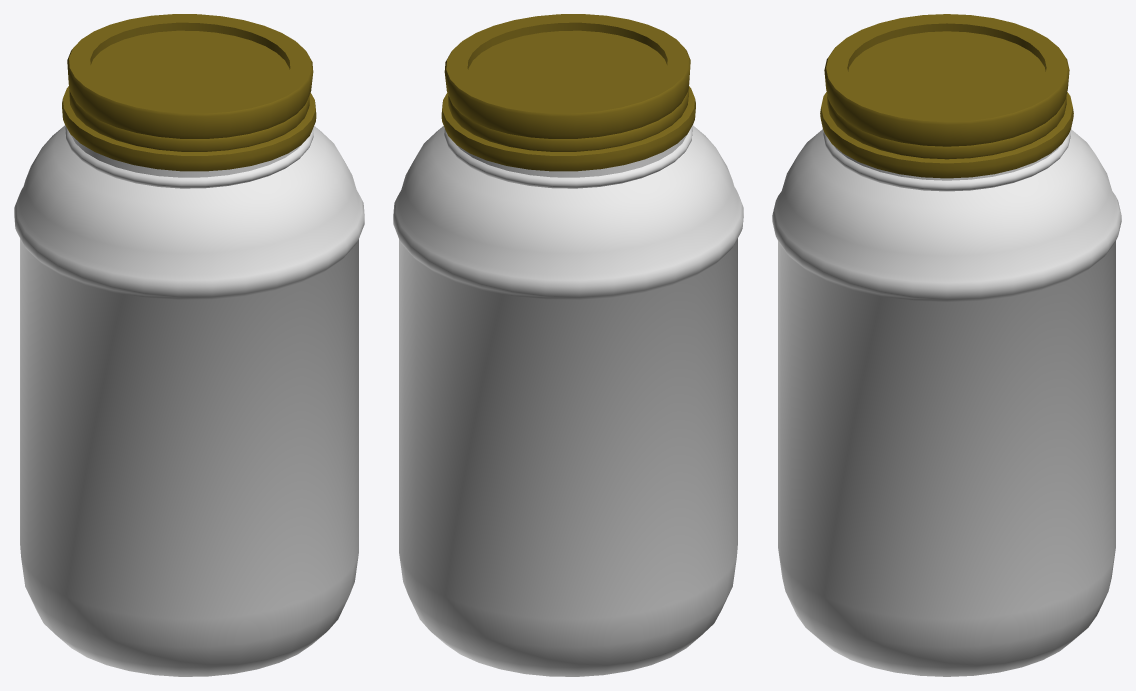
Rendered from jarate.fbx.
The picture shows the model from 3 angles, left to right: view 1: azimuth 30°, elevation 25°; view 2: azimuth 150°, elevation 25°; view 3: azimuth 270°, elevation 25°; orthographic projection.
Parts seen in each view (by area): view 1: jarate jar; view 2: jarate jar; view 3: jarate jar.
Boxes of the visible parts, <box> form: jarate jar: <box>14,14,364,676</box>; jarate jar: <box>393,14,743,676</box>; jarate jar: <box>772,14,1121,676</box>.
Size of the model in its own units: 24.64 by 43.66 by 24.64.
